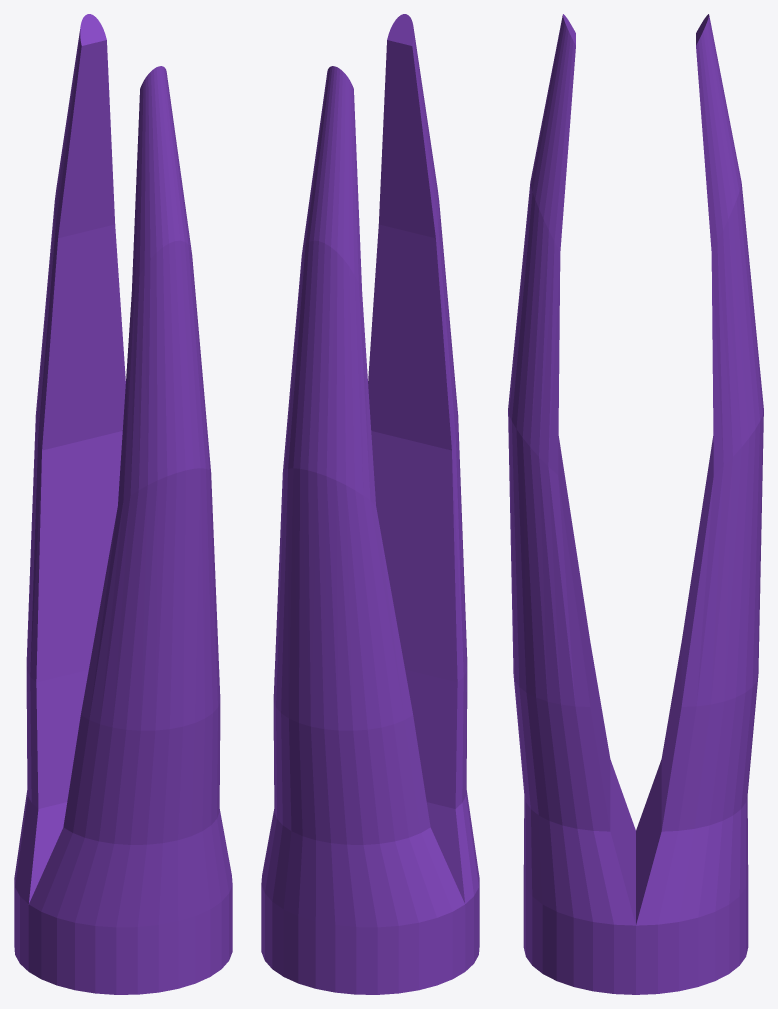
The picture shows the model from 3 angles, left to right: view 1: azimuth 30°, elevation 25°; view 2: azimuth 150°, elevation 25°; view 3: azimuth 270°, elevation 25°; orthographic projection. The views are drawn at different scales.
Parts seen in each view (by area): view 1: link_6; view 2: link_6; view 3: link_6.
Boxes of the visible parts, x1,y1,x2,y2 form: link_6: (14, 14, 232, 994); link_6: (261, 14, 479, 994); link_6: (508, 14, 763, 994).
Bounding box in the file's own units: 2 × 2.28 × 9.17.
